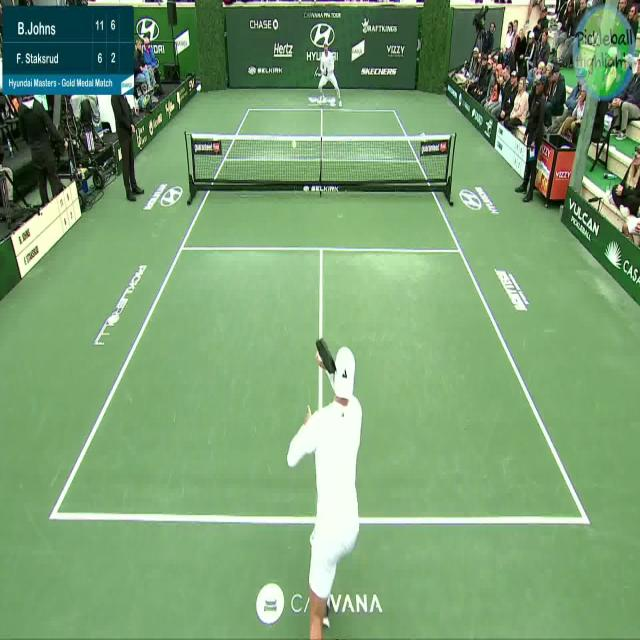ball: (290, 135, 298, 157)
